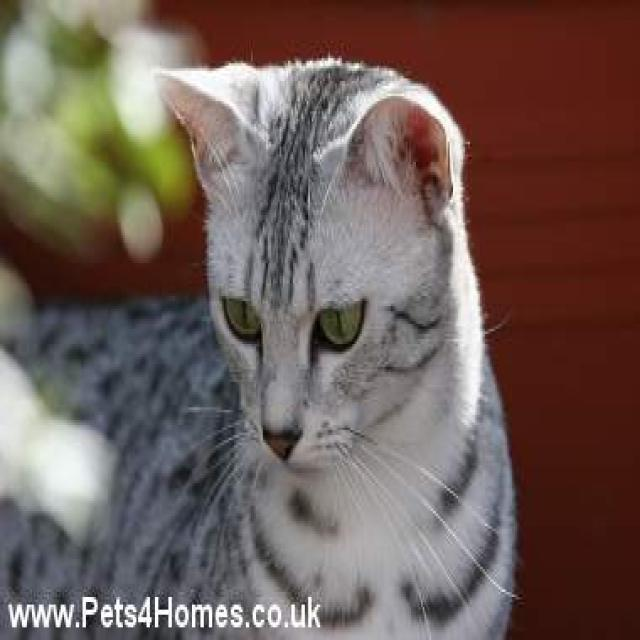Egyptian_Mau: (148, 57, 473, 495)
